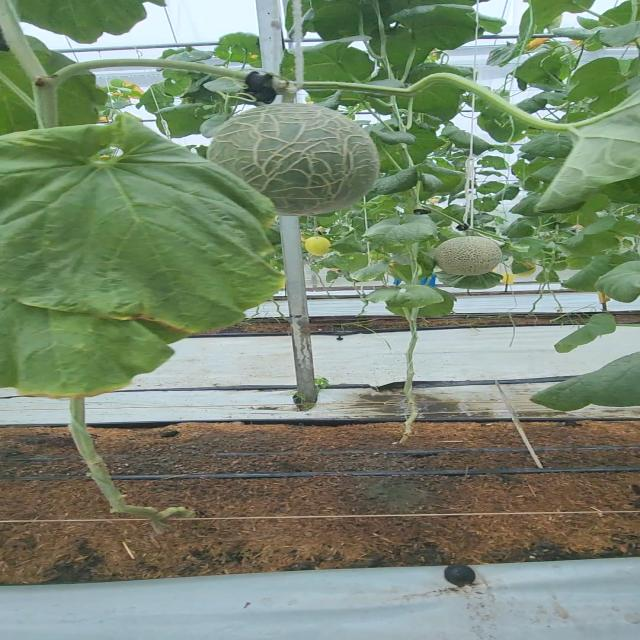Front-melon: (232, 102, 383, 211)
Rear-melon: (438, 236, 504, 275), (307, 237, 332, 255)
